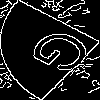G: (24, 24, 100, 84)
